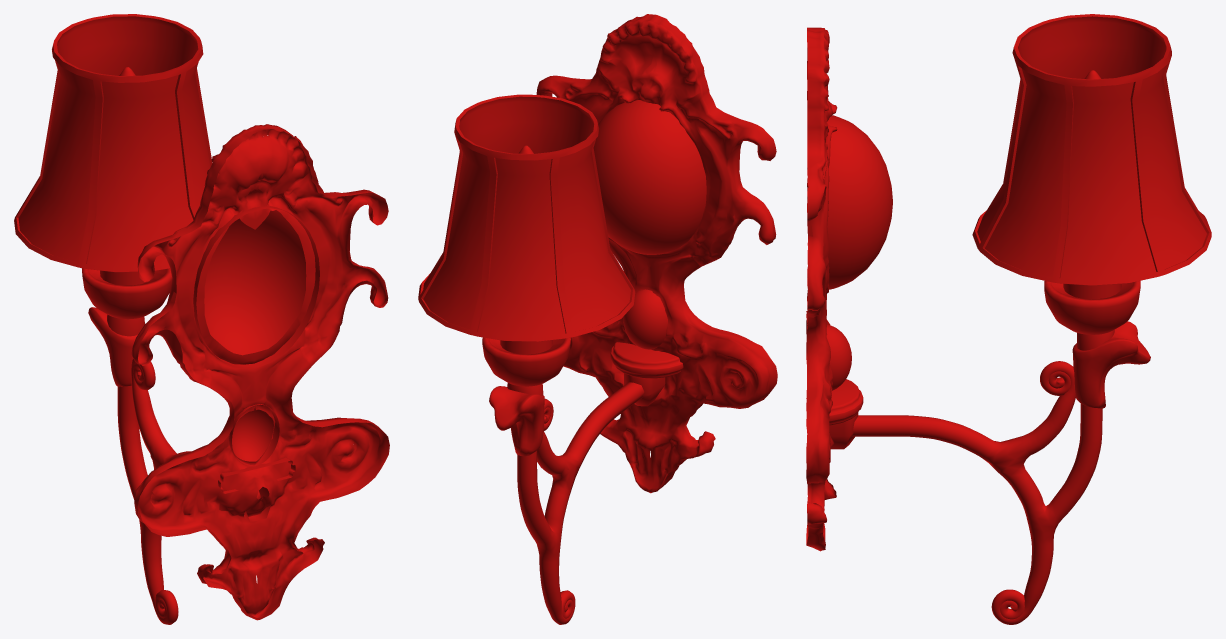
Rendered from walllight.fbx.
The picture shows the model from 3 angles, left to right: view 1: azimuth 30°, elevation 25°; view 2: azimuth 150°, elevation 25°; view 3: azimuth 270°, elevation 25°; orthographic projection. The views are drawn at different scales.
Parts seen in each view (by area): view 1: Cylinder.028; view 2: Cylinder.028; view 3: Cylinder.028.
Part boxes in pixels (x1=…): Cylinder.028: x1=14, y1=14, x2=389, y2=624; Cylinder.028: x1=418, y1=14, x2=777, y2=624; Cylinder.028: x1=806, y1=14, x2=1211, y2=624.
Bounding box in the file's own units: 0.9387 × 2 × 1.24.
